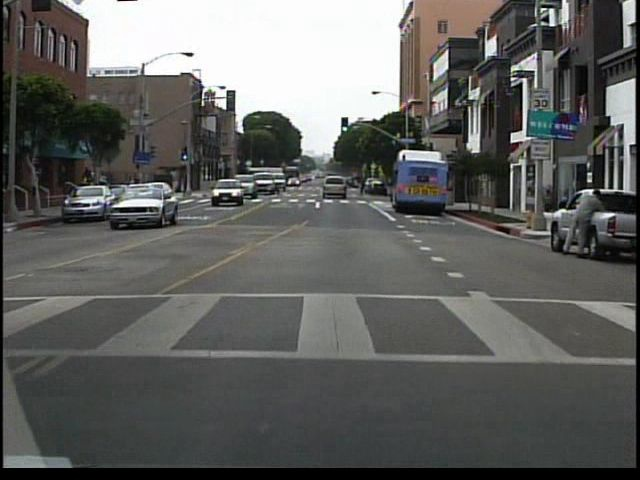person: (559, 184, 610, 261)
